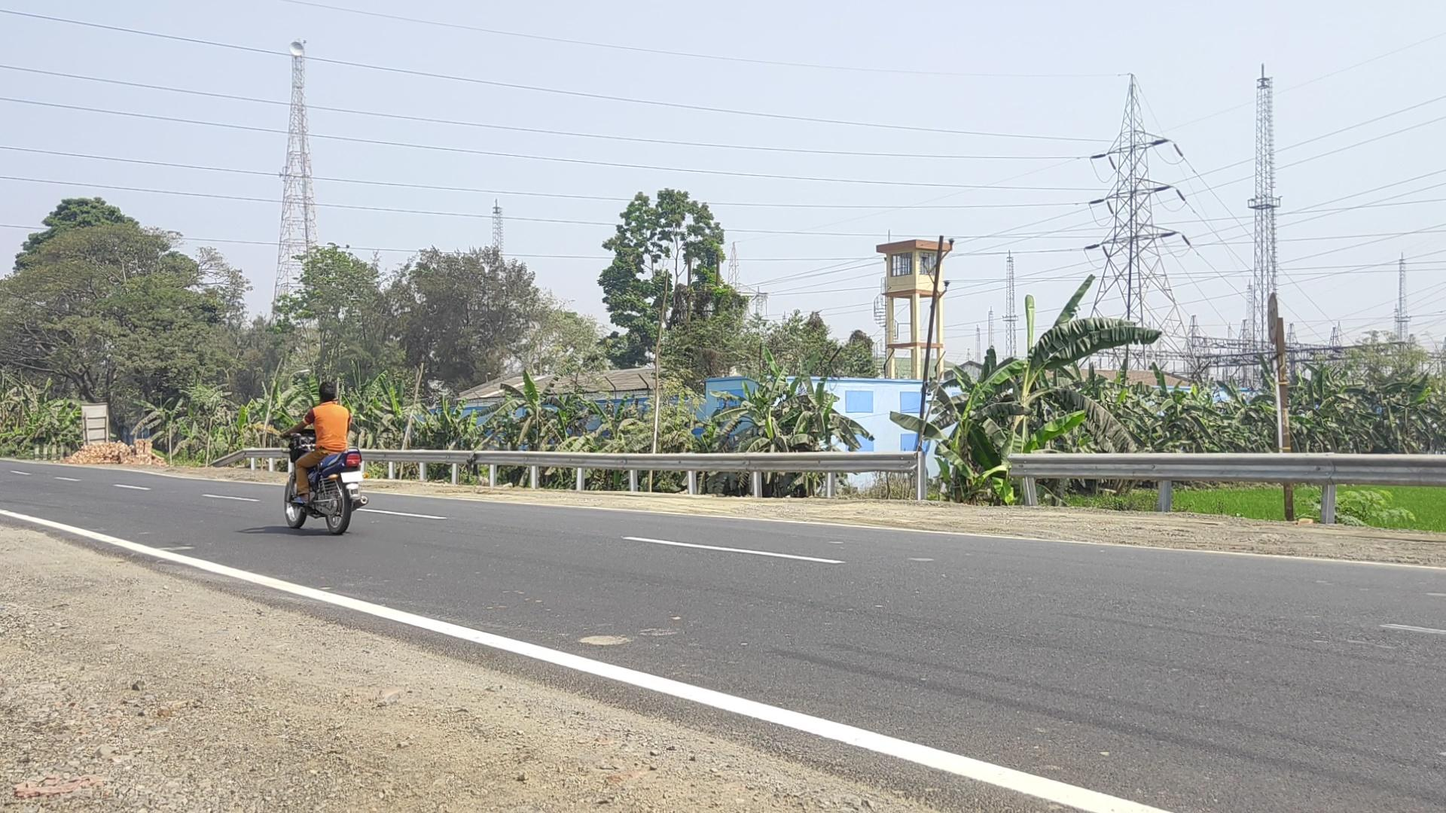bike: (279, 381, 368, 536)
